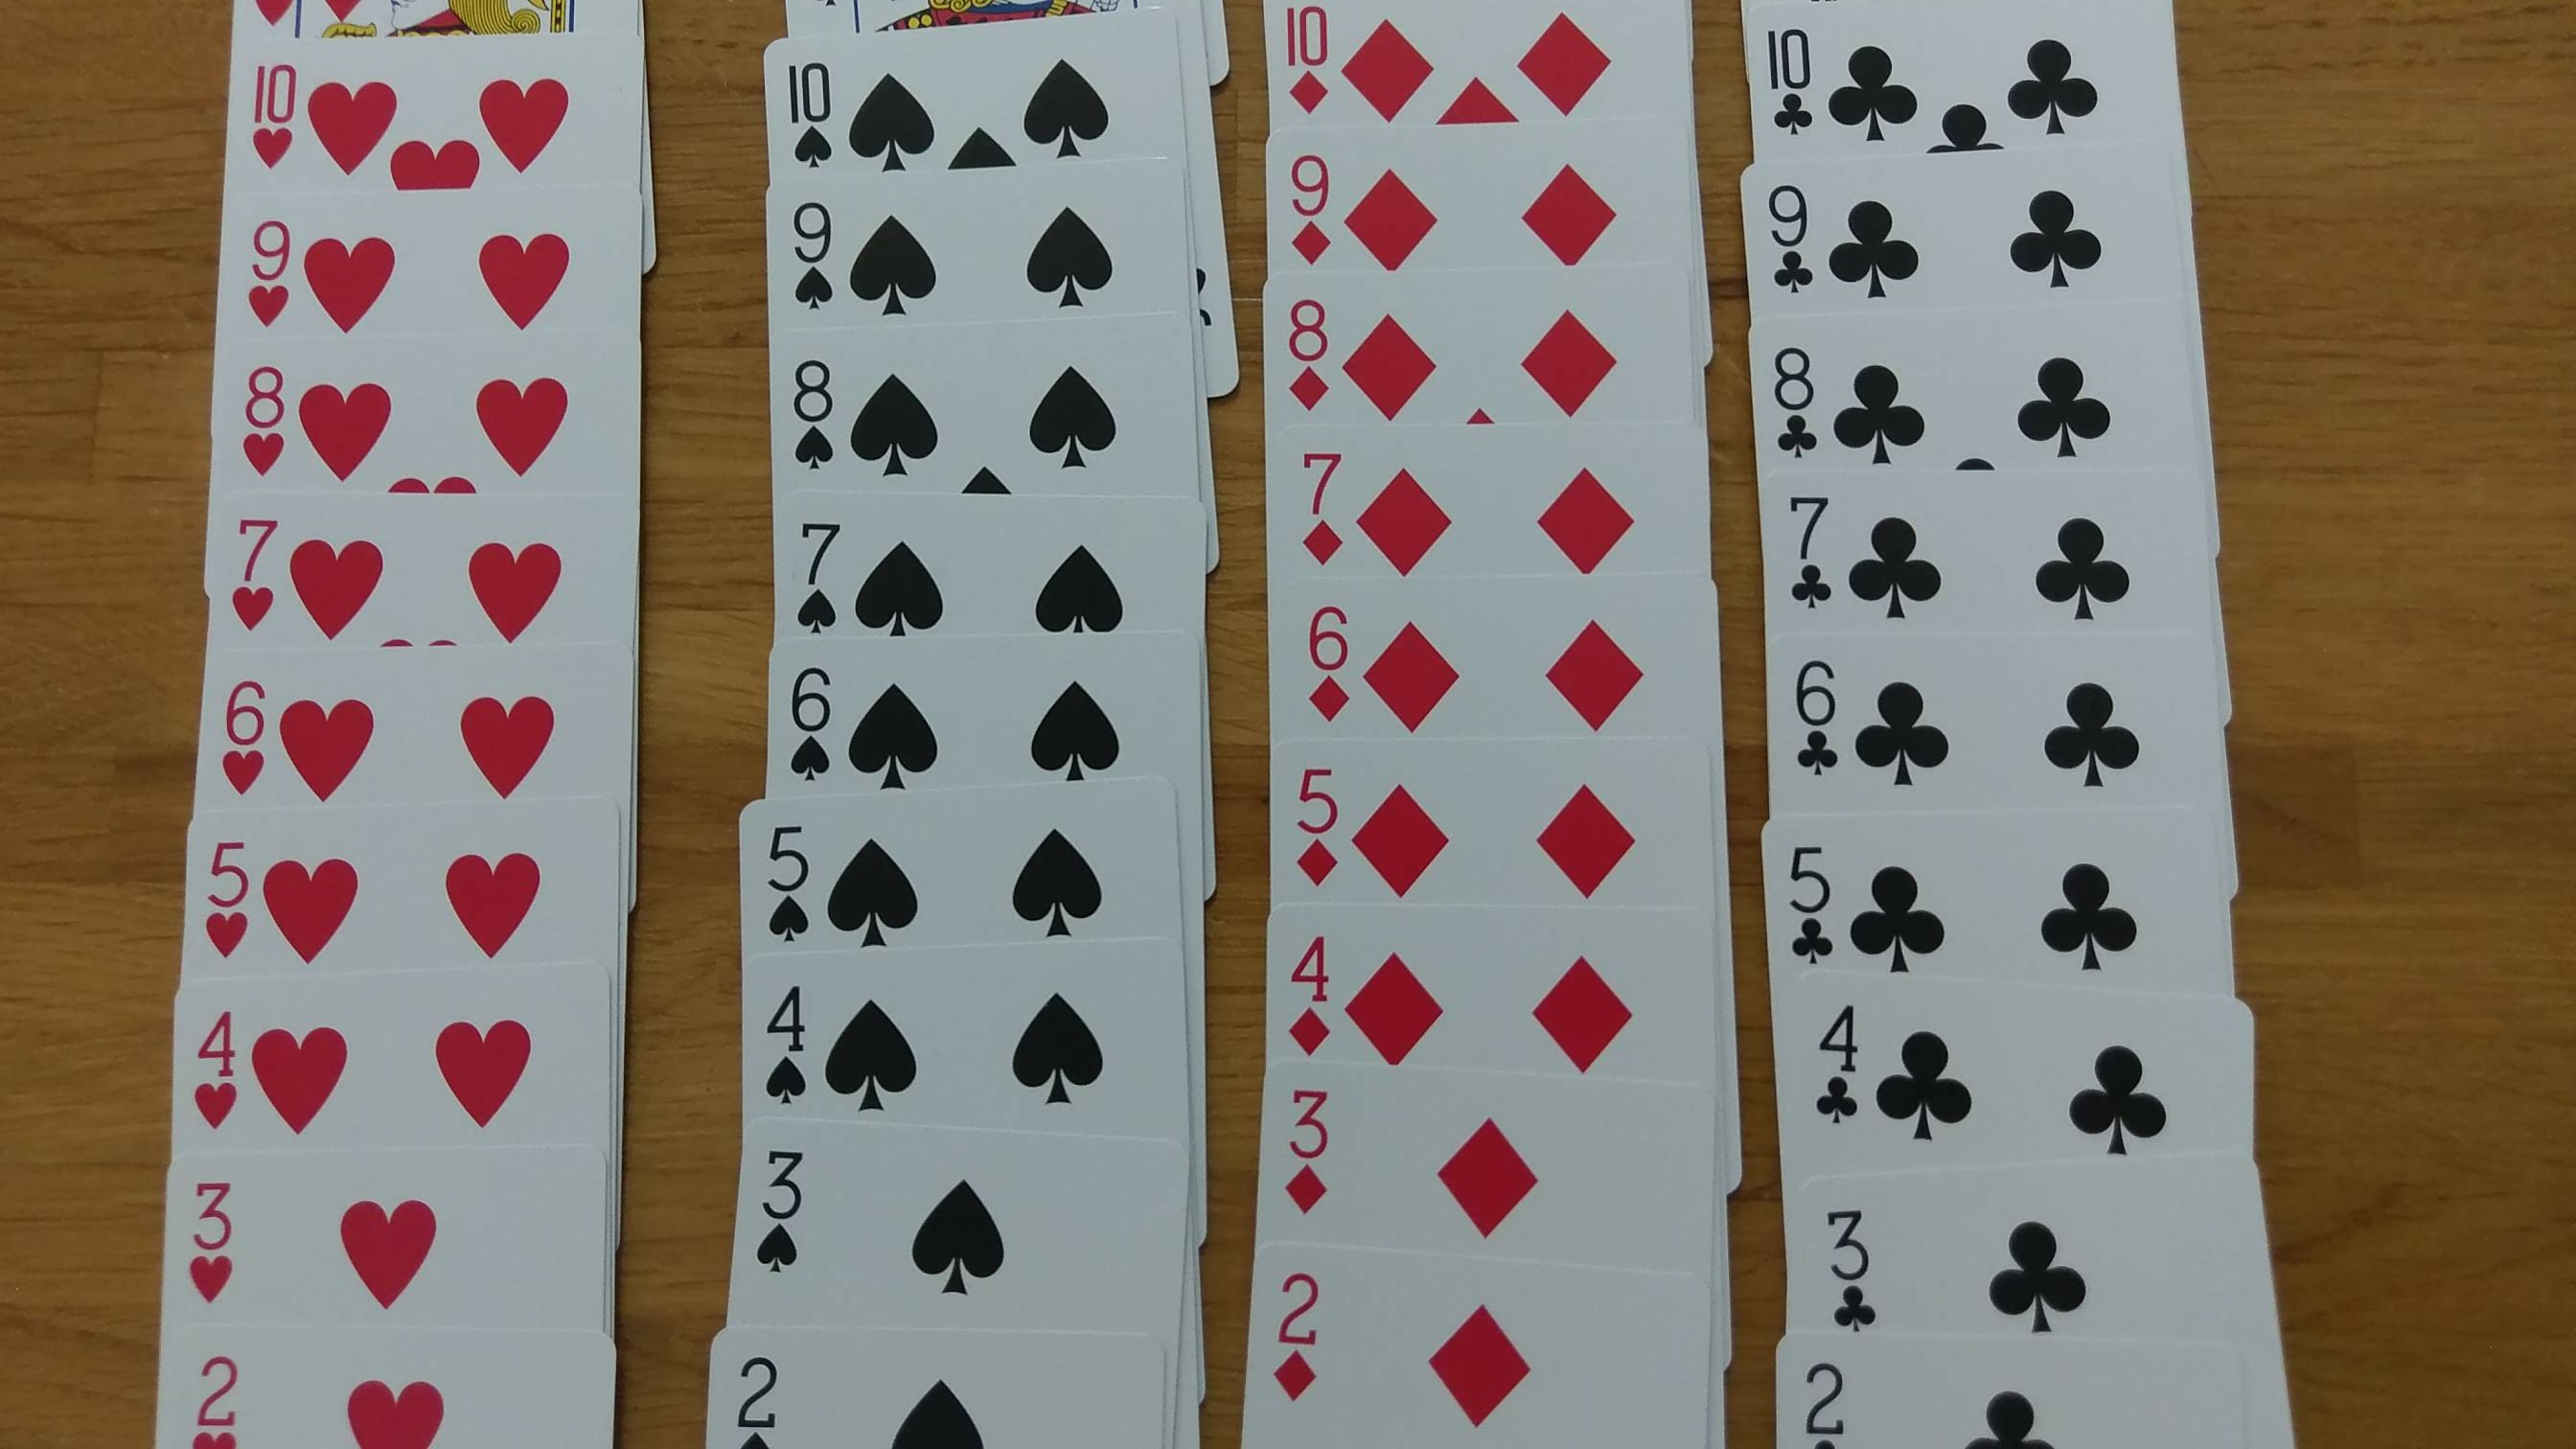10F: (1743, 11, 1826, 156)
10Q: (1270, 2, 1346, 127)
2Q: (1263, 1261, 1339, 1407)
3F: (1798, 1182, 1890, 1357)
3Q: (1281, 1086, 1339, 1244)
4F: (1799, 984, 1872, 1161)
4Q: (1281, 922, 1343, 1062)
5F: (1760, 819, 1849, 984)
5Q: (1290, 752, 1355, 902)
6F: (1776, 633, 1865, 798)
6Q: (1292, 596, 1359, 732)
7F: (1766, 487, 1845, 630)
7Q: (1281, 439, 1359, 570)
8F: (1755, 327, 1838, 479)
8Q: (1274, 290, 1339, 416)
9F: (1743, 166, 1826, 313)
9Q: (1270, 145, 1348, 267)
